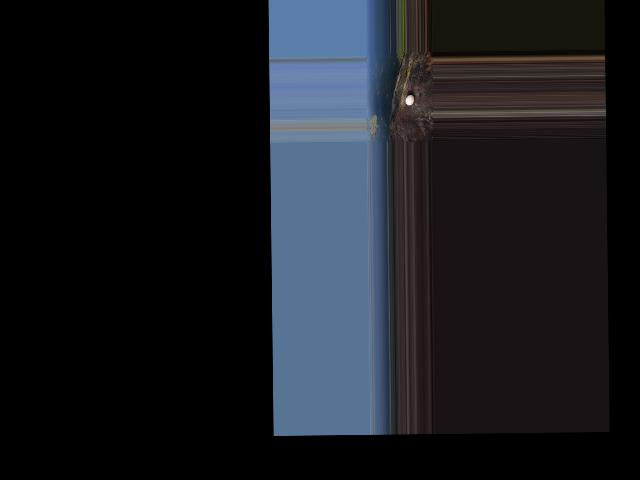egg: (405, 95, 414, 106)
